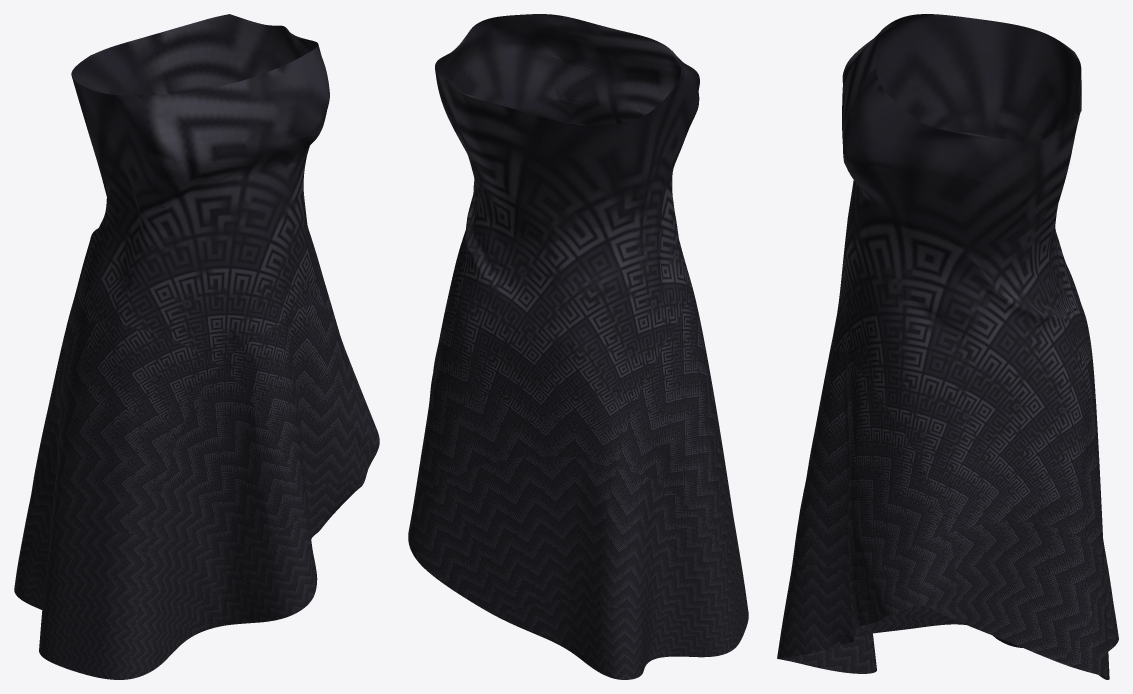
The model's file is dress_dark.obj.
3 renders of one model, left to right at view 1: azimuth 30°, elevation 25°; view 2: azimuth 150°, elevation 25°; view 3: azimuth 270°, elevation 25°, orthographic. The views are drawn at different scales.
Parts seen in each view (by area): view 1: Cloth_Shape.001; view 2: Cloth_Shape.001; view 3: Cloth_Shape.001.
Part boxes in pixels (x1,y1,x2,y2): Cloth_Shape.001: (14, 14, 379, 679); Cloth_Shape.001: (408, 14, 748, 679); Cloth_Shape.001: (777, 14, 1118, 679).
Bounding box in the file's own units: 0.3151 × 0.5405 × 0.2555.
1 material, 1 textured.
